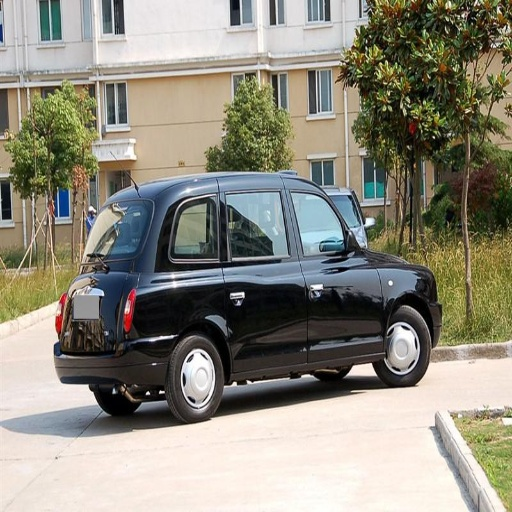back_bumper: (62, 329, 179, 398)
back_right_door: (177, 177, 307, 367)
trunk: (67, 263, 136, 353)
